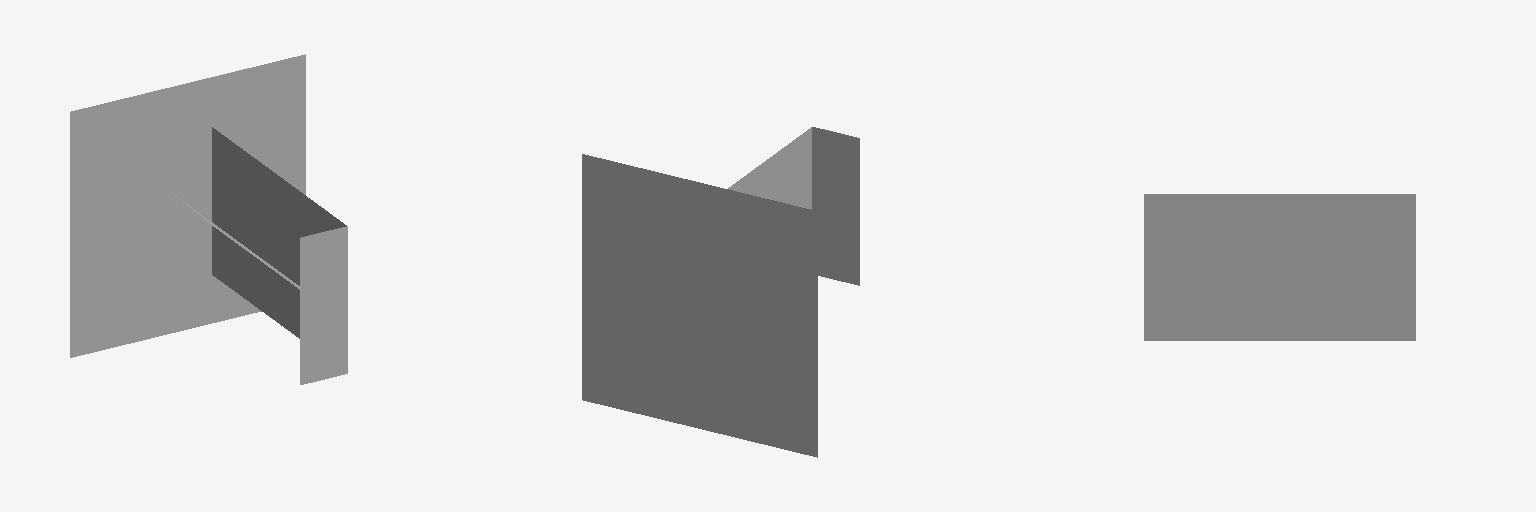
Rendered from test-tileset.obj.
The picture shows the model from 3 angles: view 1: azimuth 30°, elevation 25°; view 2: azimuth 150°, elevation 25°; view 3: azimuth 270°, elevation 25°; orthographic projection.
Visible parts, largest first — view 1: base_Plane.002, wall_Plane.001, floor_Plane, filler_Plane.003, corner-outer_Plane.005; view 2: base_Plane.002, floor_Plane, wall_Plane.001, corner-outer_Plane.005, corner-inner_Plane.004, filler_Plane.003; view 3: wall_Plane.001, filler_Plane.003.
Boxes of the visible parts, box(x1,y1,x2,y2) form: base_Plane.002: box(70, 55, 305, 357); wall_Plane.001: box(212, 127, 347, 384); floor_Plane: box(70, 54, 305, 353); filler_Plane.003: box(212, 177, 347, 335); corner-outer_Plane.005: box(168, 190, 345, 335); base_Plane.002: box(582, 154, 817, 456); floor_Plane: box(582, 154, 817, 457); wall_Plane.001: box(728, 127, 859, 285); corner-outer_Plane.005: box(818, 187, 859, 236); corner-inner_Plane.004: box(812, 176, 858, 216); filler_Plane.003: box(778, 176, 859, 235); wall_Plane.001: box(1144, 194, 1415, 340); filler_Plane.003: box(1144, 243, 1415, 291).
Size of the model in its own units: 1 by 1 by 1.